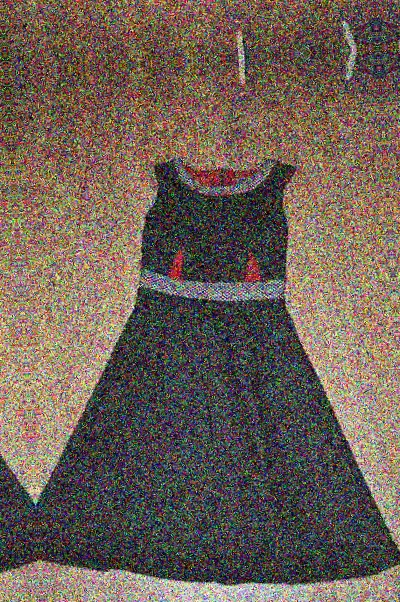Dress: (20, 129, 400, 602), (0, 155, 34, 602), (385, 104, 400, 584)
